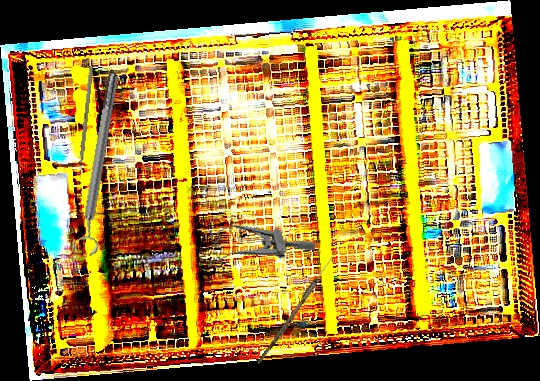Fixation Ring: (69, 70, 129, 258)
Pusher: (76, 67, 94, 187)
Speculum: (197, 204, 318, 278)
Surgical Spoon: (256, 248, 340, 366)
